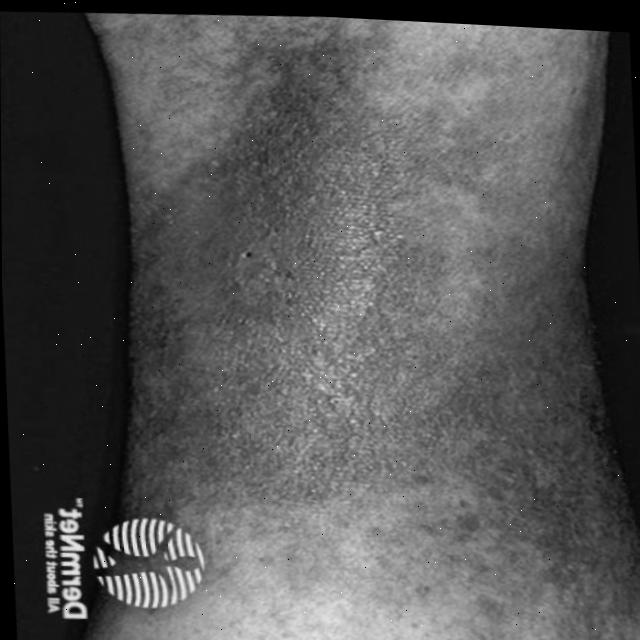Eczema: (184, 106, 464, 491)
